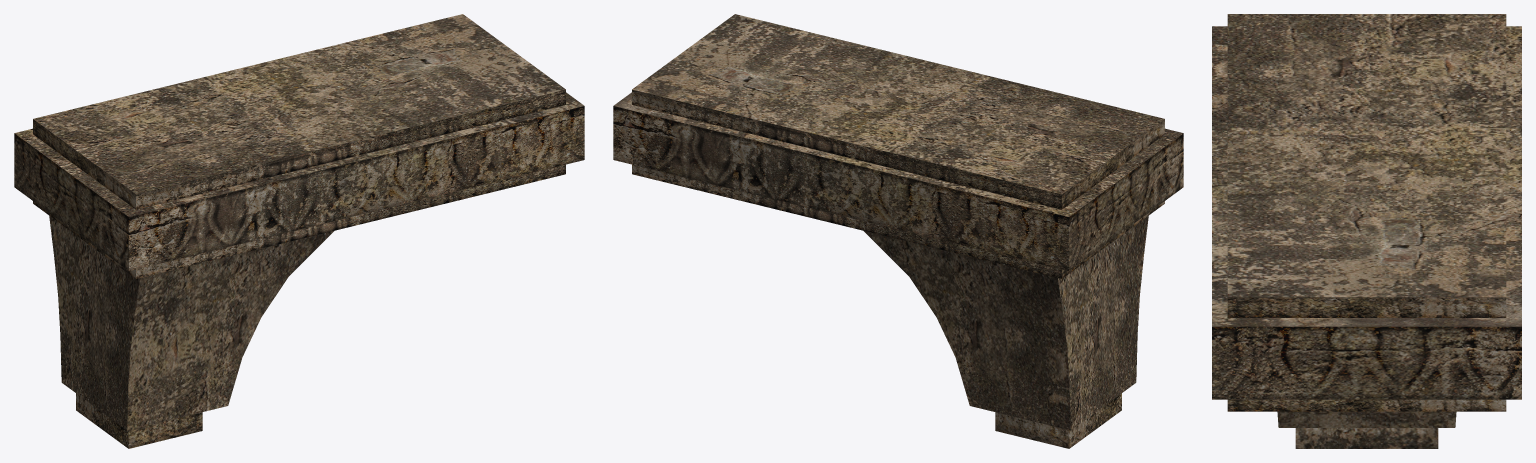
The model's file is materials_5_decoration_4.fbx.
The picture shows the model from 3 angles, left to right: view 1: azimuth 30°, elevation 25°; view 2: azimuth 150°, elevation 25°; view 3: azimuth 270°, elevation 25°; orthographic projection. The views are drawn at different scales.
Visible parts, largest first — view 1: materials_5_decoration_4; view 2: materials_5_decoration_4; view 3: materials_5_decoration_4.
Part boxes in pixels (x1,y1,x2,y2): materials_5_decoration_4: [14, 14, 584, 448]; materials_5_decoration_4: [613, 14, 1183, 448]; materials_5_decoration_4: [1212, 14, 1521, 448].
Bounding box in the file's own units: 145 × 84.29 × 63.19.
